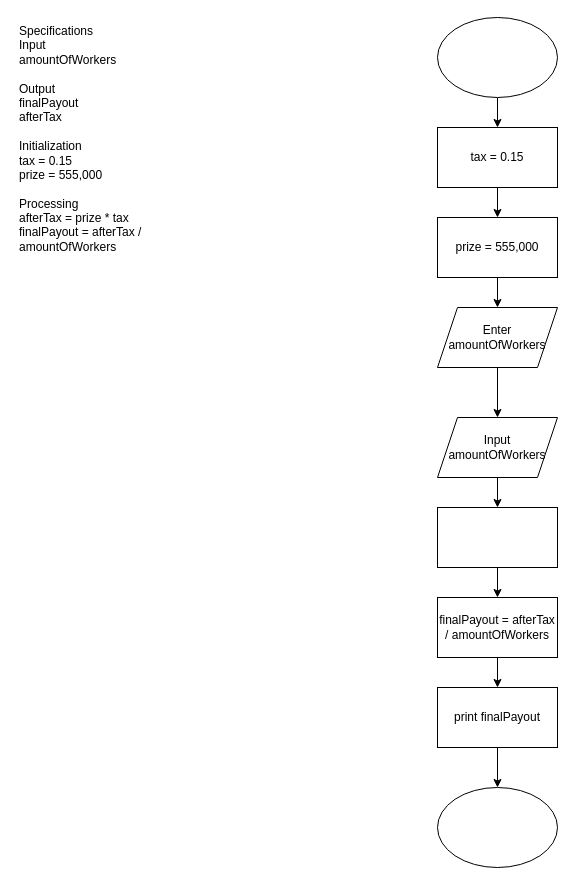
Some shapes in this 575 by 885 pixel diagram are drawn without their labels. The centre of each missing label's shape, as x and y in pixels:
afterTax = prize * 0.15: the point at 497,537
End: the point at 497,827
Start: the point at 497,57
